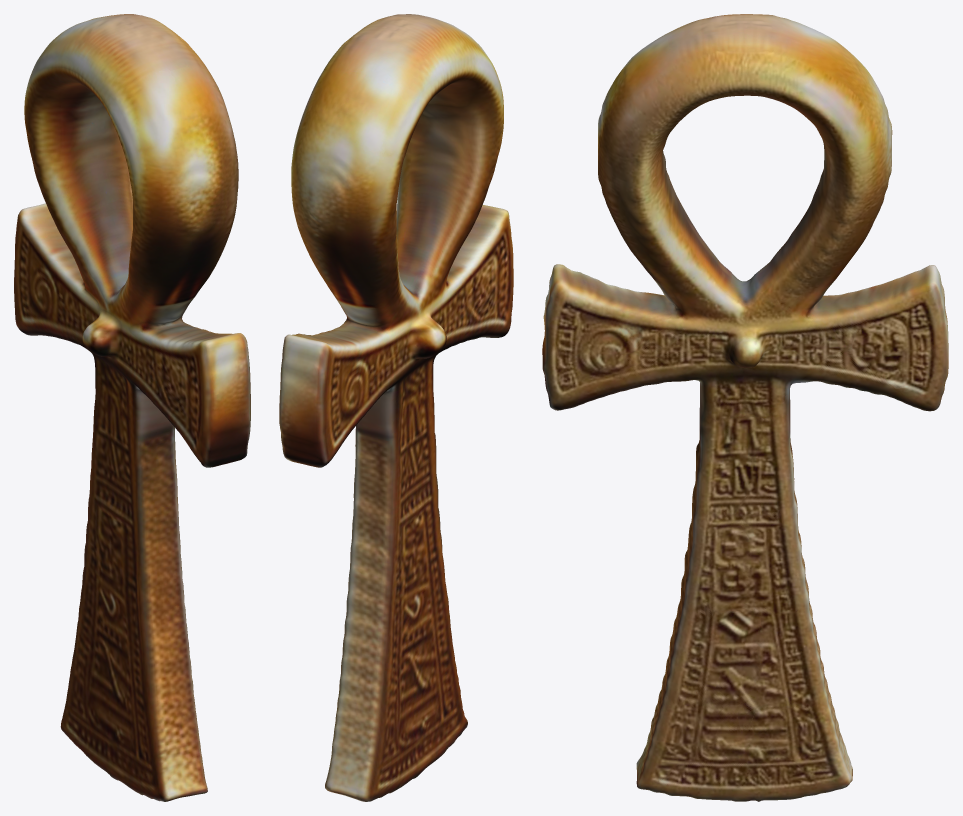
File: ankh_3d.glb
3 renders of one model, left to right at view 1: azimuth 30°, elevation 25°; view 2: azimuth 150°, elevation 25°; view 3: azimuth 270°, elevation 25°, orthographic. The views are drawn at different scales.
Parts seen in each view (by area): view 1: tripo_node_10922a9c-4de8-4d46-933d-eb5b8090dd52; view 2: tripo_node_10922a9c-4de8-4d46-933d-eb5b8090dd52; view 3: tripo_node_10922a9c-4de8-4d46-933d-eb5b8090dd52.
Boxes of the visible parts, <box> form: tripo_node_10922a9c-4de8-4d46-933d-eb5b8090dd52: <box>14,14,250,801</box>; tripo_node_10922a9c-4de8-4d46-933d-eb5b8090dd52: <box>279,14,513,801</box>; tripo_node_10922a9c-4de8-4d46-933d-eb5b8090dd52: <box>542,14,948,801</box>.
Bounding box in the file's own units: 0.1429 × 0.9734 × 0.4656.
Materials: 1 (1 with a texture image).
